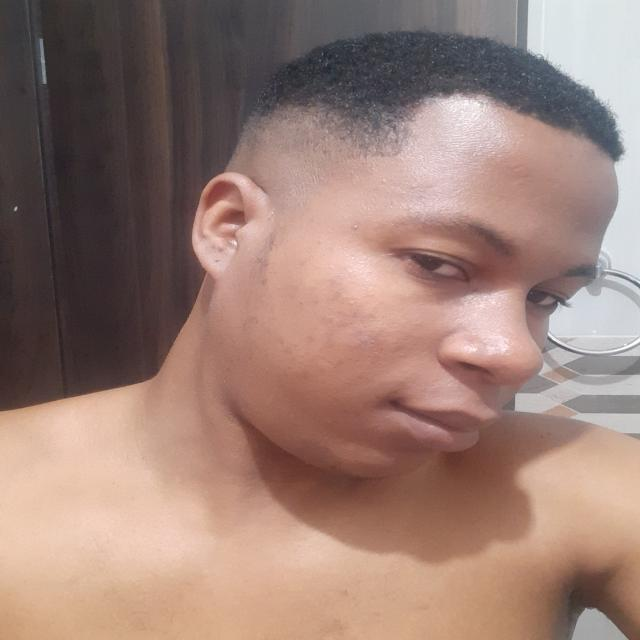Acne: (280, 336, 296, 348), (304, 335, 320, 346), (349, 225, 364, 231), (379, 176, 387, 186)
Dry-Skin: (268, 207, 283, 221)
Englarged-Pores: (344, 324, 404, 371), (331, 284, 382, 320)
